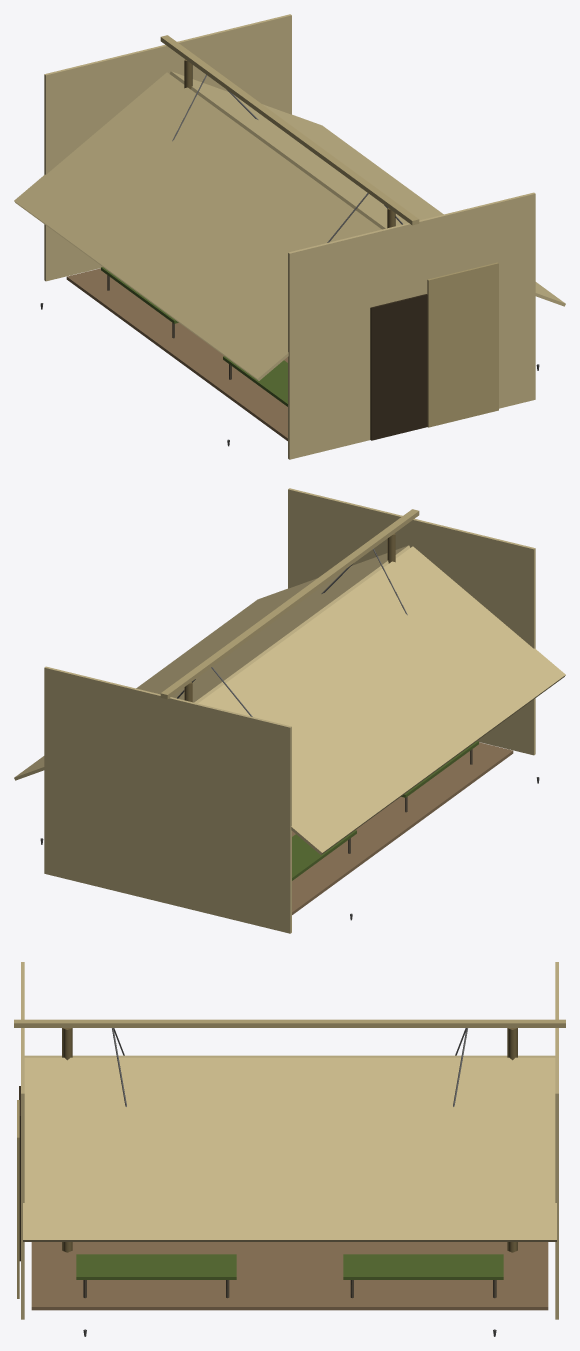
The model's file is barracks-tent.glb.
3 renders of one model, top to bottom at view 1: azimuth 30°, elevation 25°; view 2: azimuth 150°, elevation 25°; view 3: azimuth 270°, elevation 25°, orthographic. The views are drawn at different scales.
Parts seen in each view (by area): view 1: Mesh_LeftSlopeCanvas, Mesh_TentFront, Mesh_TentBack, Mesh_EntranceFlap, Mesh_RightSlopeCanvas, Mesh_DoorOpening, Mesh_WoodenFloor, Mesh_TentRidge, Mesh_CotLeft1; view 2: Mesh_TentBack, Mesh_LeftSlopeCanvas, Mesh_TentFront, Mesh_RightSlopeCanvas, Mesh_WoodenFloor, Mesh_TentRidge, Mesh_CotLeft2; view 3: Mesh_RightSlopeCanvas, Mesh_WoodenFloor, Mesh_TentRidge, Mesh_CotRight1, Mesh_CotRight2, Mesh_LeftSlopeCanvas, Mesh_TentFront, Mesh_TentBack, Mesh_EntranceFlap.
Part boxes in pixels (<box>): Mesh_LeftSlopeCanvas: <box>14,72,381,380</box>; Mesh_TentFront: <box>288,192,535,459</box>; Mesh_TentBack: <box>44,14,291,281</box>; Mesh_EntranceFlap: <box>427,262,498,427</box>; Mesh_RightSlopeCanvas: <box>170,71,565,306</box>; Mesh_DoorOpening: <box>370,294,427,440</box>; Mesh_WoodenFloor: <box>66,268,287,440</box>; Mesh_TentRidge: <box>160,35,419,225</box>; Mesh_CotLeft1: <box>223,356,287,406</box>; Mesh_TentBack: <box>44,666,291,933</box>; Mesh_LeftSlopeCanvas: <box>198,546,565,854</box>; Mesh_TentFront: <box>288,488,535,755</box>; Mesh_RightSlopeCanvas: <box>14,545,409,780</box>; Mesh_WoodenFloor: <box>292,742,513,914</box>; Mesh_TentRidge: <box>160,509,419,699</box>; Mesh_CotLeft2: <box>292,830,356,880</box>; Mesh_RightSlopeCanvas: <box>23,1057,556,1241</box>; Mesh_WoodenFloor: <box>31,1242,548,1310</box>; Mesh_TentRidge: <box>14,1019,565,1027</box>; Mesh_CotRight1: <box>76,1254,236,1279</box>; Mesh_CotRight2: <box>343,1254,503,1279</box>; Mesh_LeftSlopeCanvas: <box>24,1055,555,1057</box>; Mesh_TentFront: <box>21,962,24,1319</box>; Mesh_TentBack: <box>555,962,558,1319</box>; Mesh_EntranceFlap: <box>17,1100,19,1298</box>.
Size of the model in its own units: 4.44 by 2.88 by 6.2.
